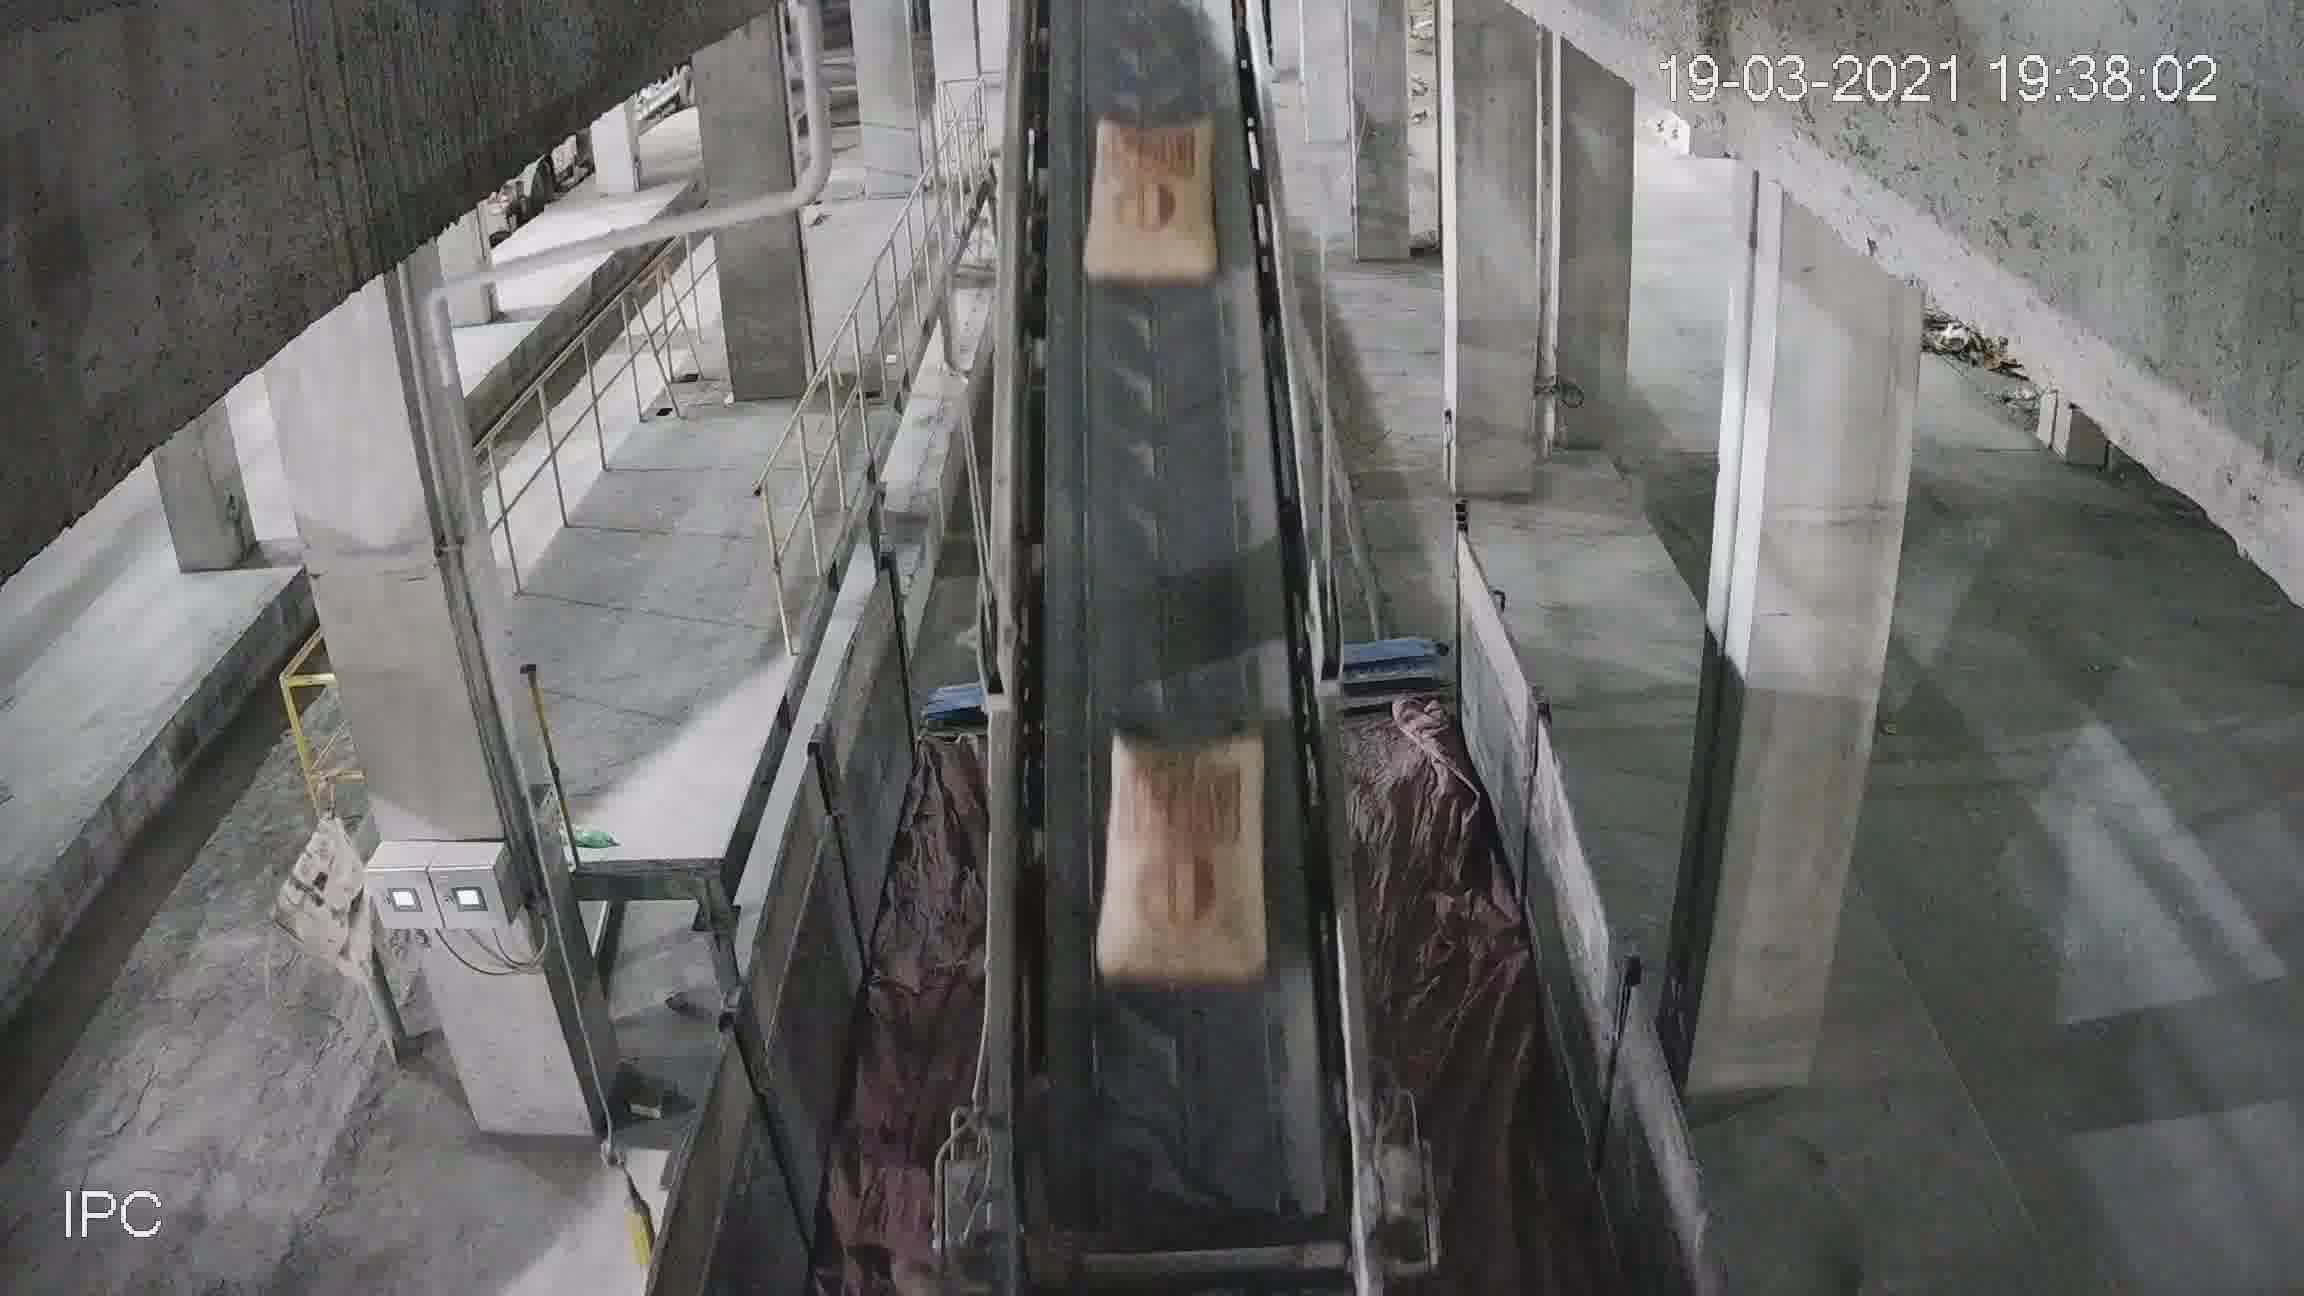bag: (1108, 733, 1268, 991), (1081, 123, 1222, 279)
belt: (999, 84, 1359, 1185)
